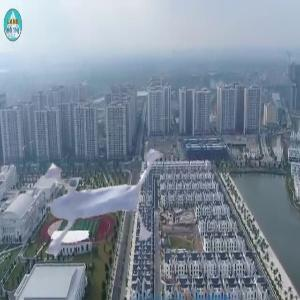drone: (3, 96, 200, 293)
